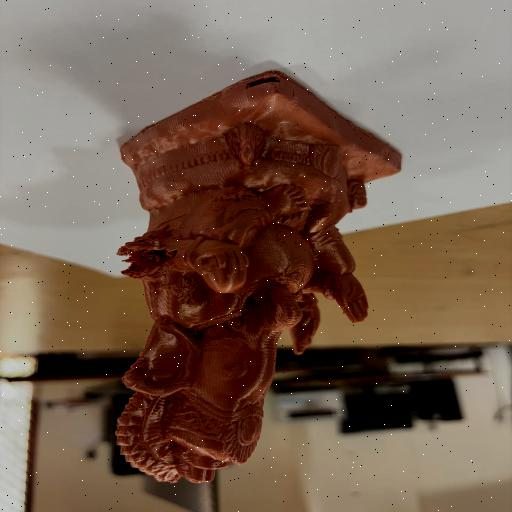cracks: (112, 239, 200, 285), (236, 70, 285, 90)
